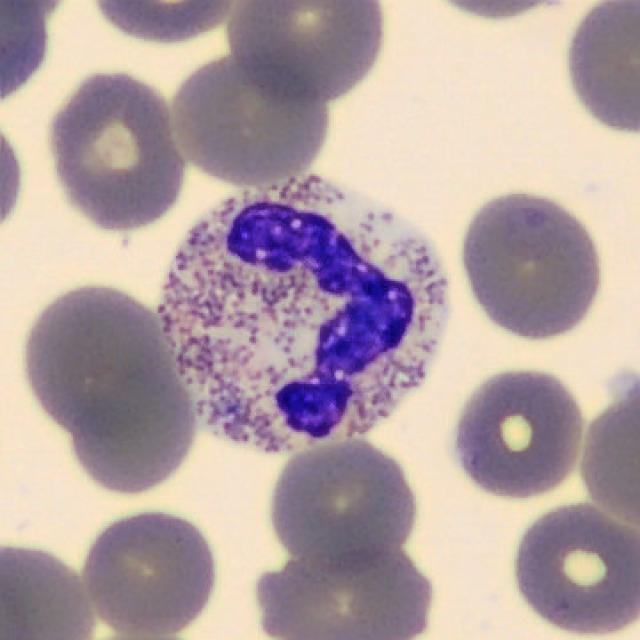Neutrofilo segmentado: (156, 174, 450, 455)
